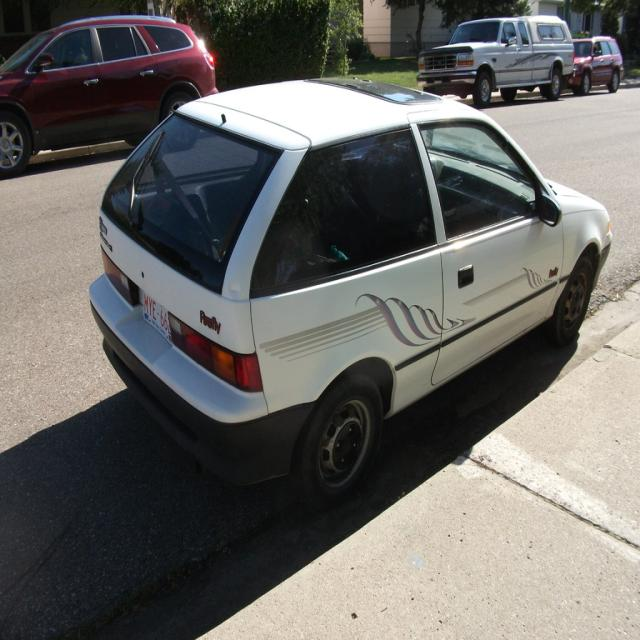car: (87, 74, 612, 511)
